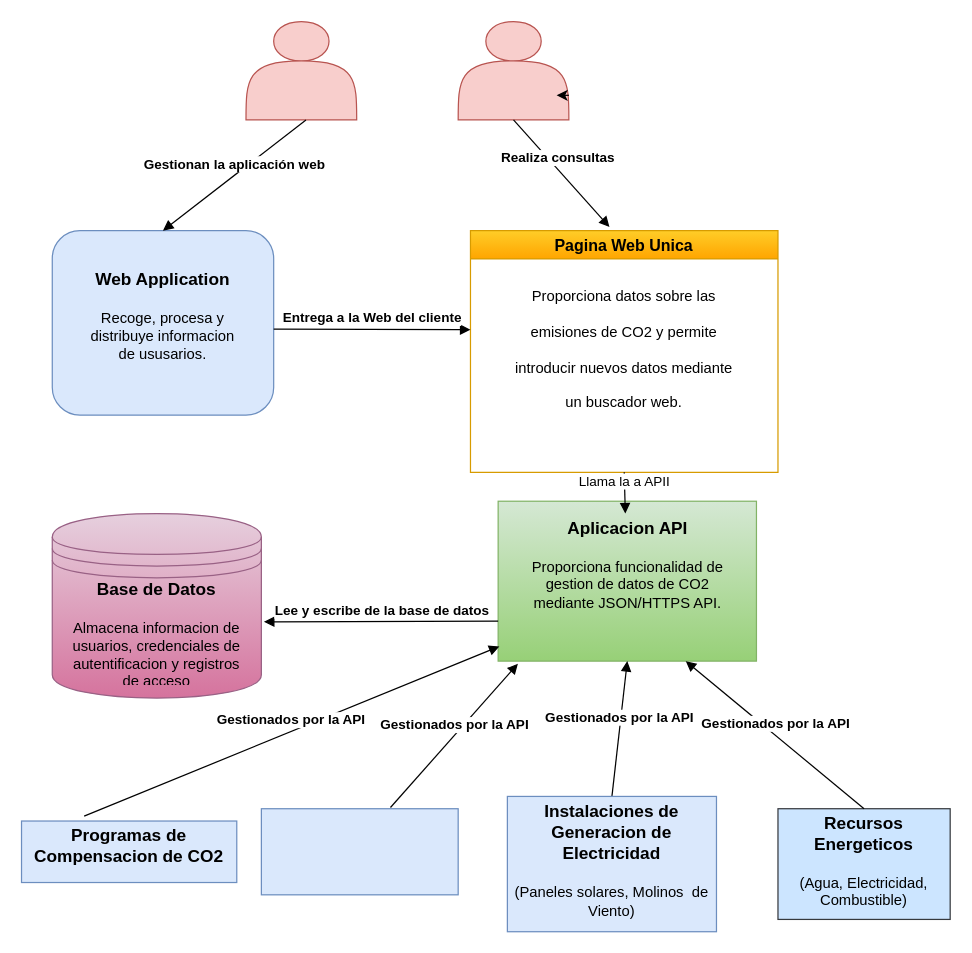
This 972x953 diagram has some shape labels left out. The centre of each missing label's shape, as x and y in pixels:
"Activos de la Empresa (Edificios, Vehicuslos ...)" goes at point 359,851.
"Personal de empresa" goes at point 513,70.
"Usuarios del Sistema" goes at point 301,70.
